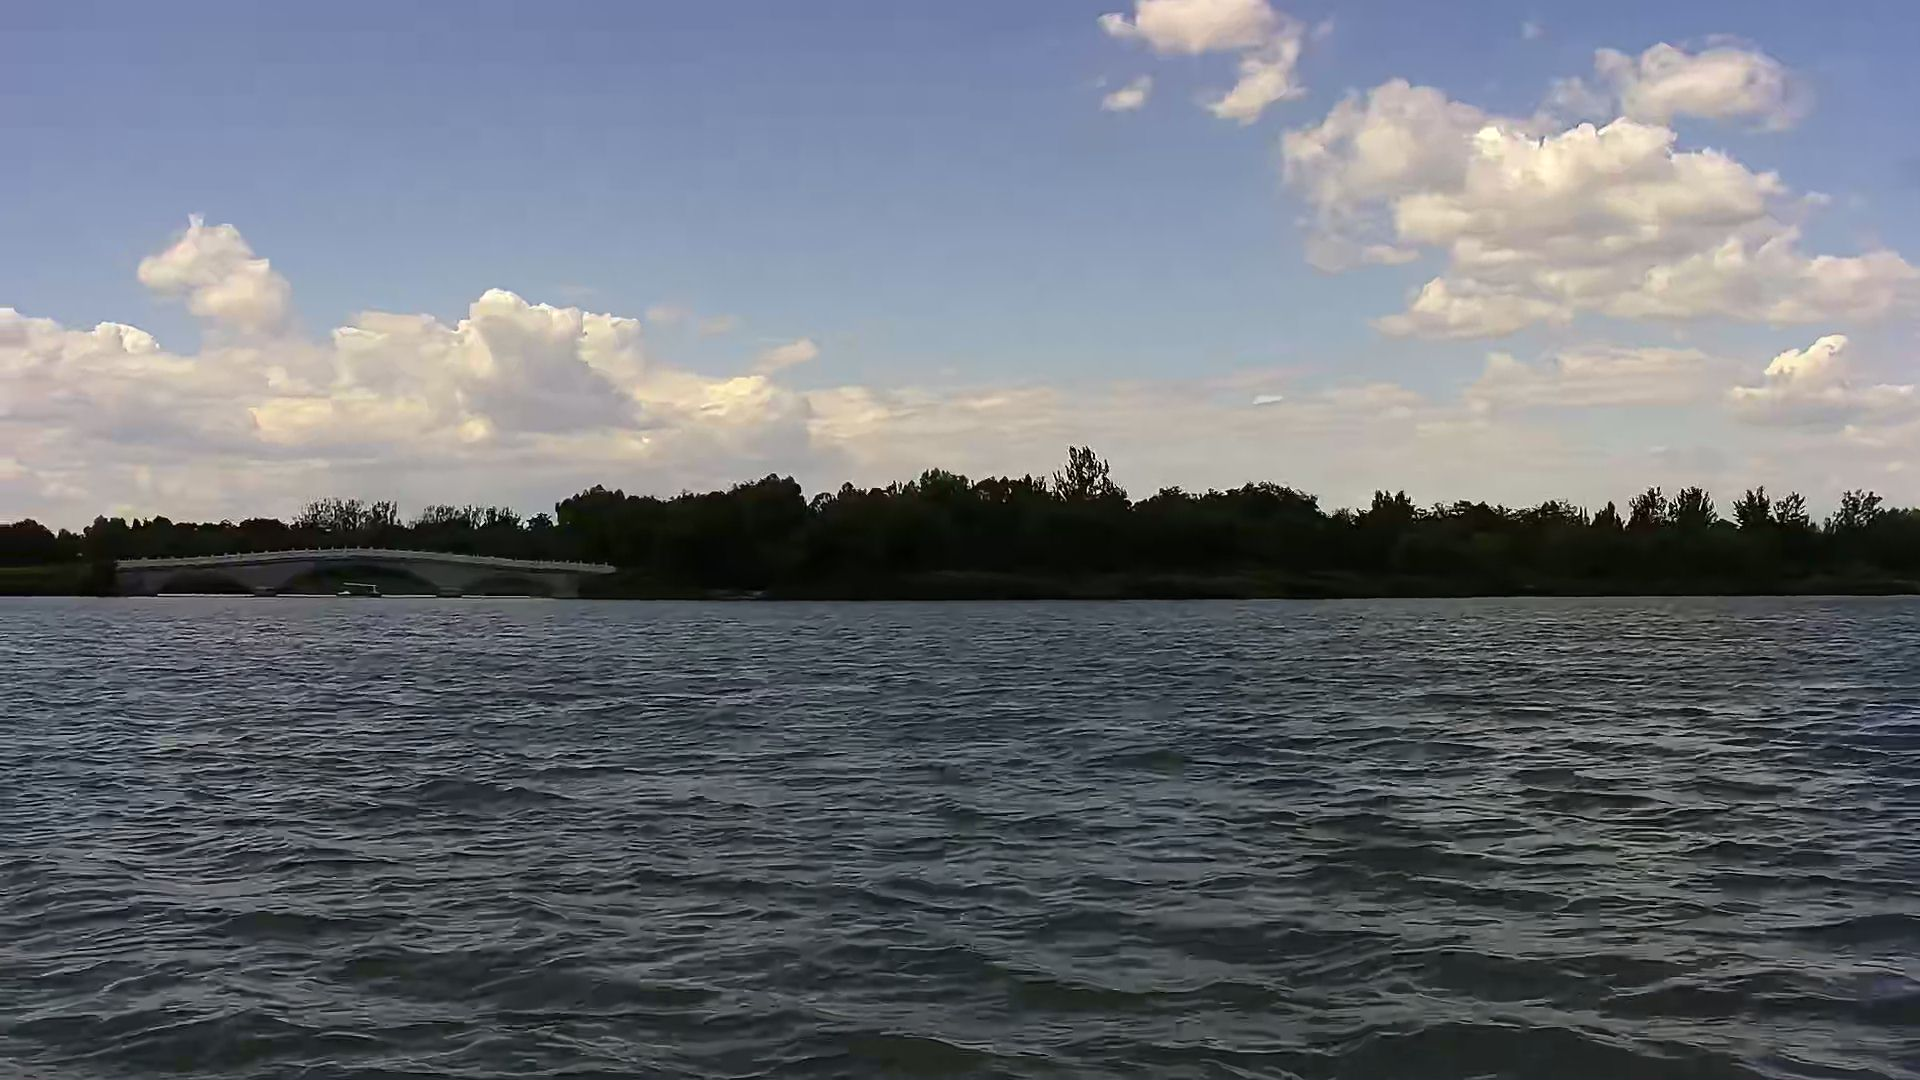boat: (332, 579, 386, 597)
bridge: (115, 549, 618, 601)
